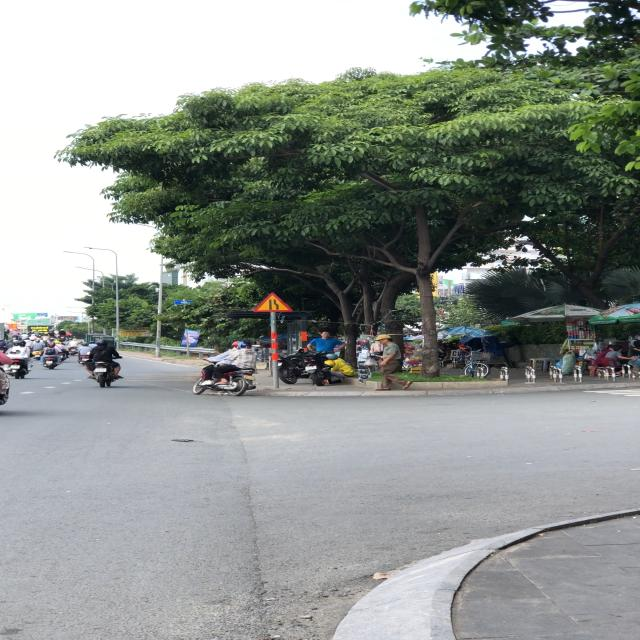Bien bao duong bi thu hep: (250, 292, 300, 314)
